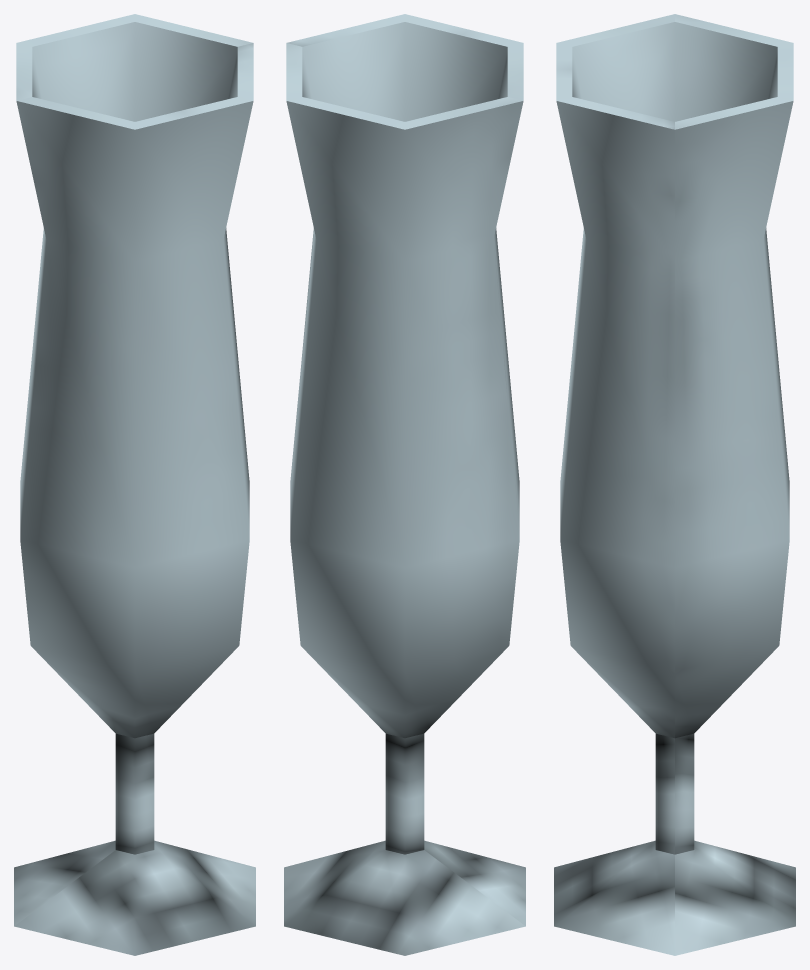
Rendered from EmptyGlassV15.fbx.
3 views of the same model, side by side, from view 1: azimuth 30°, elevation 25°; view 2: azimuth 150°, elevation 25°; view 3: azimuth 270°, elevation 25° (orthographic).
Parts seen in each view (by area): view 1: Glasses.009; view 2: Glasses.009; view 3: Glasses.009.
Part boxes in pixels (x1,y1,x2,y2): Glasses.009: [14, 14, 255, 955]; Glasses.009: [284, 14, 525, 955]; Glasses.009: [554, 14, 795, 955].
Size of the model in its own units: 0.0846 by 0.2755 by 0.0732.
